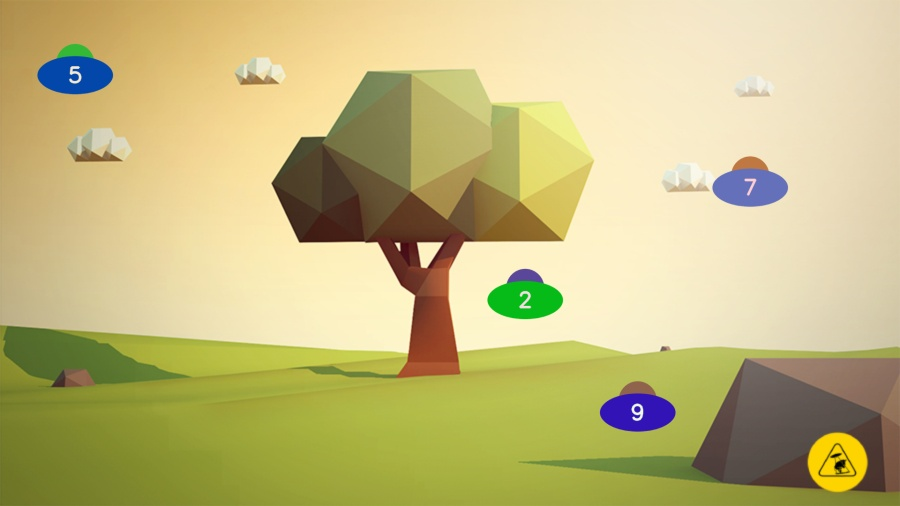ufo: (599, 381, 677, 433), (486, 268, 564, 320), (711, 156, 789, 208), (36, 44, 114, 95)
